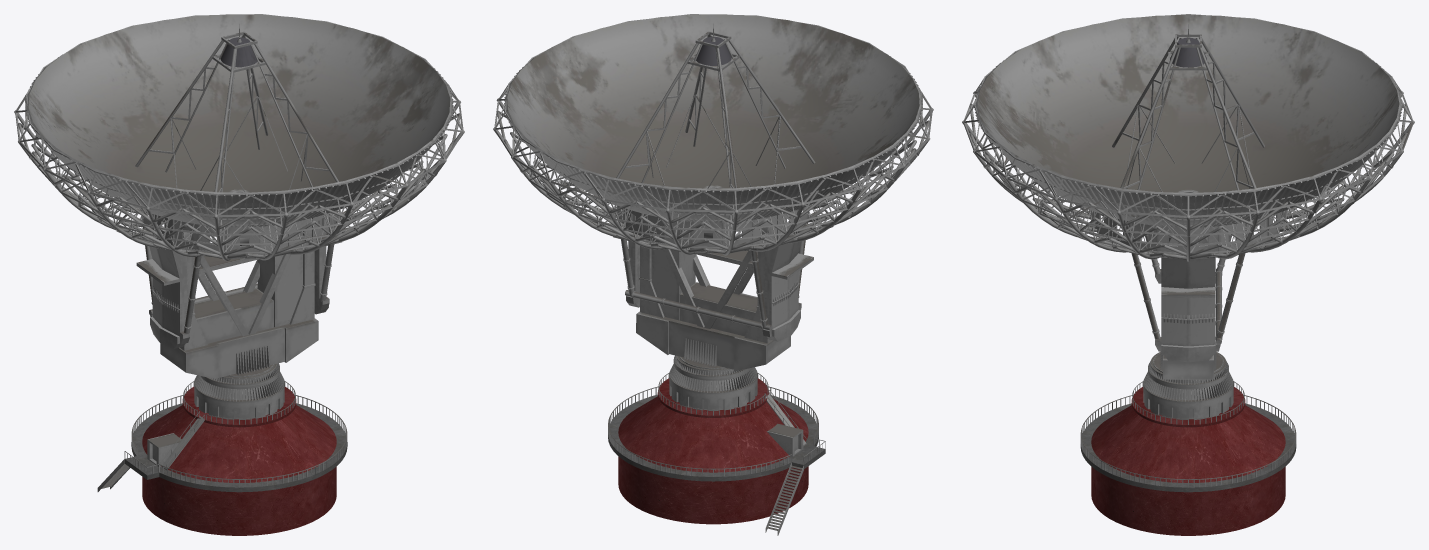
Rendered from station.gltf.
3 views of the same model, side by side, from view 1: azimuth 30°, elevation 25°; view 2: azimuth 150°, elevation 25°; view 3: azimuth 270°, elevation 25° (orthographic). The views are drawn at different scales.
Visible parts, largest first — view 1: pCube115, kashi1, polySurface643, polySurface228; view 2: pCube115, kashi1, polySurface643, polySurface228; view 3: pCube115, kashi1, polySurface228, polySurface643.
Part boxes in pixels (bbox=[...]): pCube115: bbox=[14, 14, 464, 348]; kashi1: bbox=[97, 381, 347, 535]; polySurface643: bbox=[160, 223, 318, 388]; polySurface228: bbox=[194, 372, 284, 419]; pCube115: bbox=[493, 14, 933, 341]; kashi1: bbox=[608, 373, 825, 535]; polySurface643: bbox=[636, 218, 790, 379]; polySurface228: bbox=[669, 363, 757, 410]; pCube115: bbox=[962, 14, 1414, 362]; kashi1: bbox=[1080, 381, 1296, 535]; polySurface228: bbox=[1143, 372, 1233, 419]; polySurface643: bbox=[1148, 237, 1228, 388].
Bounding box in the file's own units: 0.5059 × 0.5802 × 0.5059.
1 material, 1 textured.
